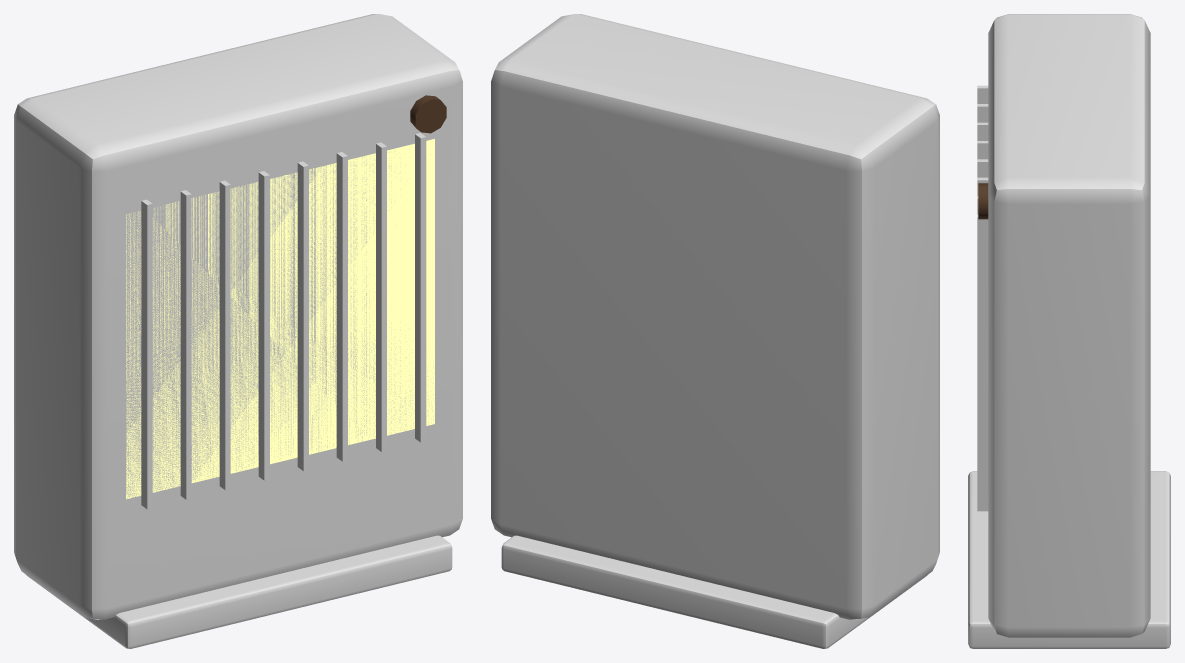
The model's file is SM_SpaceHeater.fbx.
3 views of the same model, side by side, from view 1: azimuth 30°, elevation 25°; view 2: azimuth 150°, elevation 25°; view 3: azimuth 270°, elevation 25° (orthographic). The views are drawn at different scales.
Parts seen in each view (by area): view 1: SM_SpaceHeater_1; view 2: SM_SpaceHeater_1; view 3: SM_SpaceHeater_1.
Boxes of the visible parts, x1=… form: SM_SpaceHeater_1: x1=14, y1=14, x2=462, y2=648; SM_SpaceHeater_1: x1=491, y1=14, x2=939, y2=648; SM_SpaceHeater_1: x1=968, y1=14, x2=1170, y2=648.
Bounding box in the file's own units: 42 × 52 × 20.
